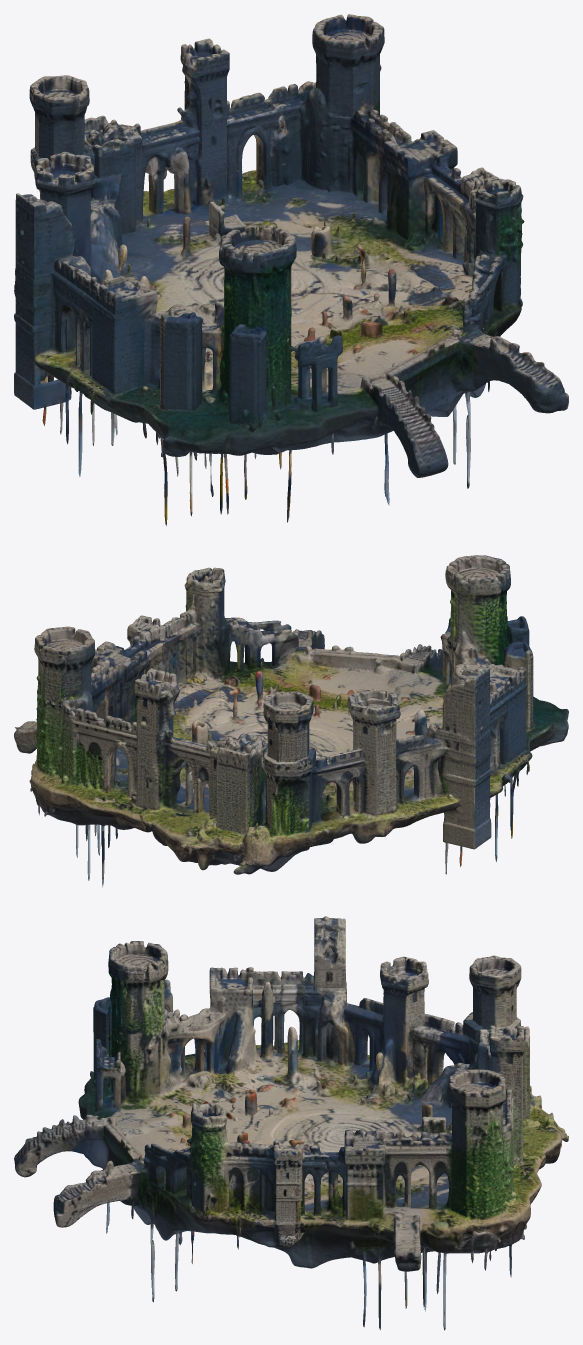
The model's file is ancient-ruins.glb.
3 renders of one model, top to bottom at view 1: azimuth 30°, elevation 25°; view 2: azimuth 150°, elevation 25°; view 3: azimuth 270°, elevation 25°, orthographic. The views are drawn at different scales.
Parts seen in each view (by area): view 1: tripo_node_2d30177f-6ff9-48e6-b0b4-c1a267856db5; view 2: tripo_node_2d30177f-6ff9-48e6-b0b4-c1a267856db5; view 3: tripo_node_2d30177f-6ff9-48e6-b0b4-c1a267856db5.
Boxes of the visible parts, left/top/right/bottom form: tripo_node_2d30177f-6ff9-48e6-b0b4-c1a267856db5: left=14, top=14, right=568, bottom=525; tripo_node_2d30177f-6ff9-48e6-b0b4-c1a267856db5: left=14, top=555, right=568, bottom=887; tripo_node_2d30177f-6ff9-48e6-b0b4-c1a267856db5: left=14, top=916, right=568, bottom=1330.
Size of the model in its own units: 29458 by 17041 by 32766.
1 material, 1 textured.
